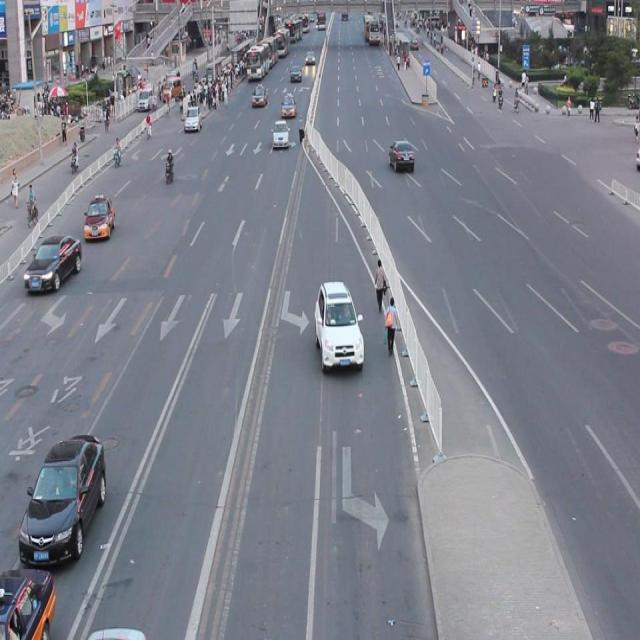car: (18, 432, 106, 566), (313, 278, 364, 370), (1, 565, 55, 640), (23, 232, 83, 293), (83, 194, 116, 241), (387, 139, 414, 173)
